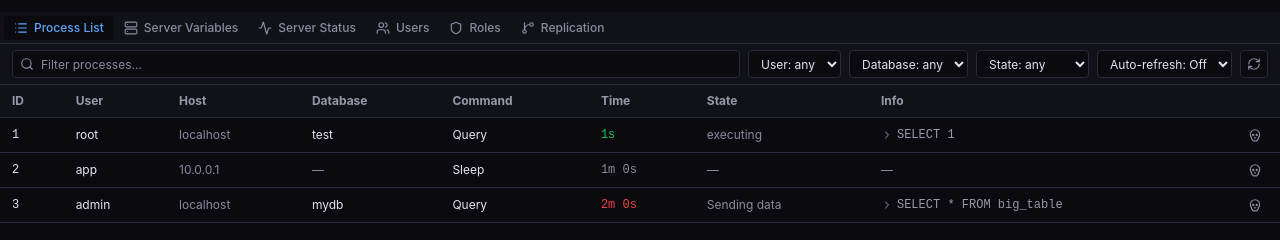
Test: ProcessListTab › filters processes by search input
This screenshot has width=1280, height=240.
Type "app" into the field with placeholder "Filter processes…".
click(376, 64); type("app")  # box [12, 50, 740, 78]
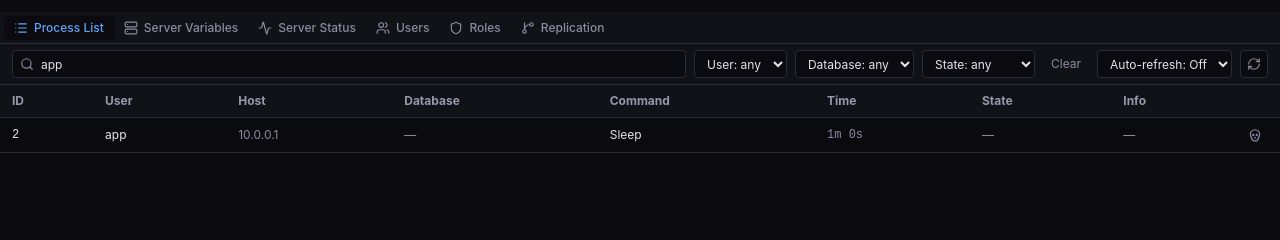
expect the text "app" is shown: met, box [93, 118, 226, 152]
expect the text "root" is gone: met
